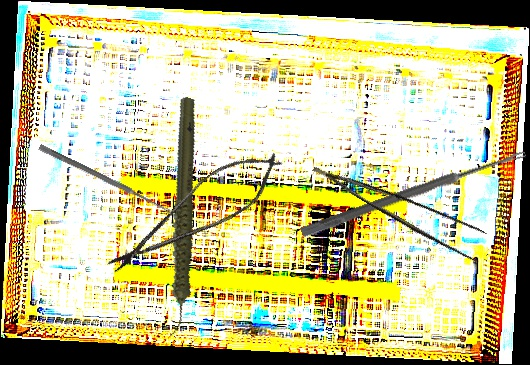Handpiece: (115, 95, 245, 339)
Micro Scissor: (97, 136, 294, 291)
Surgical Spoon: (300, 146, 527, 240), (37, 144, 174, 215)
Tissue Forceps: (312, 139, 494, 269)
